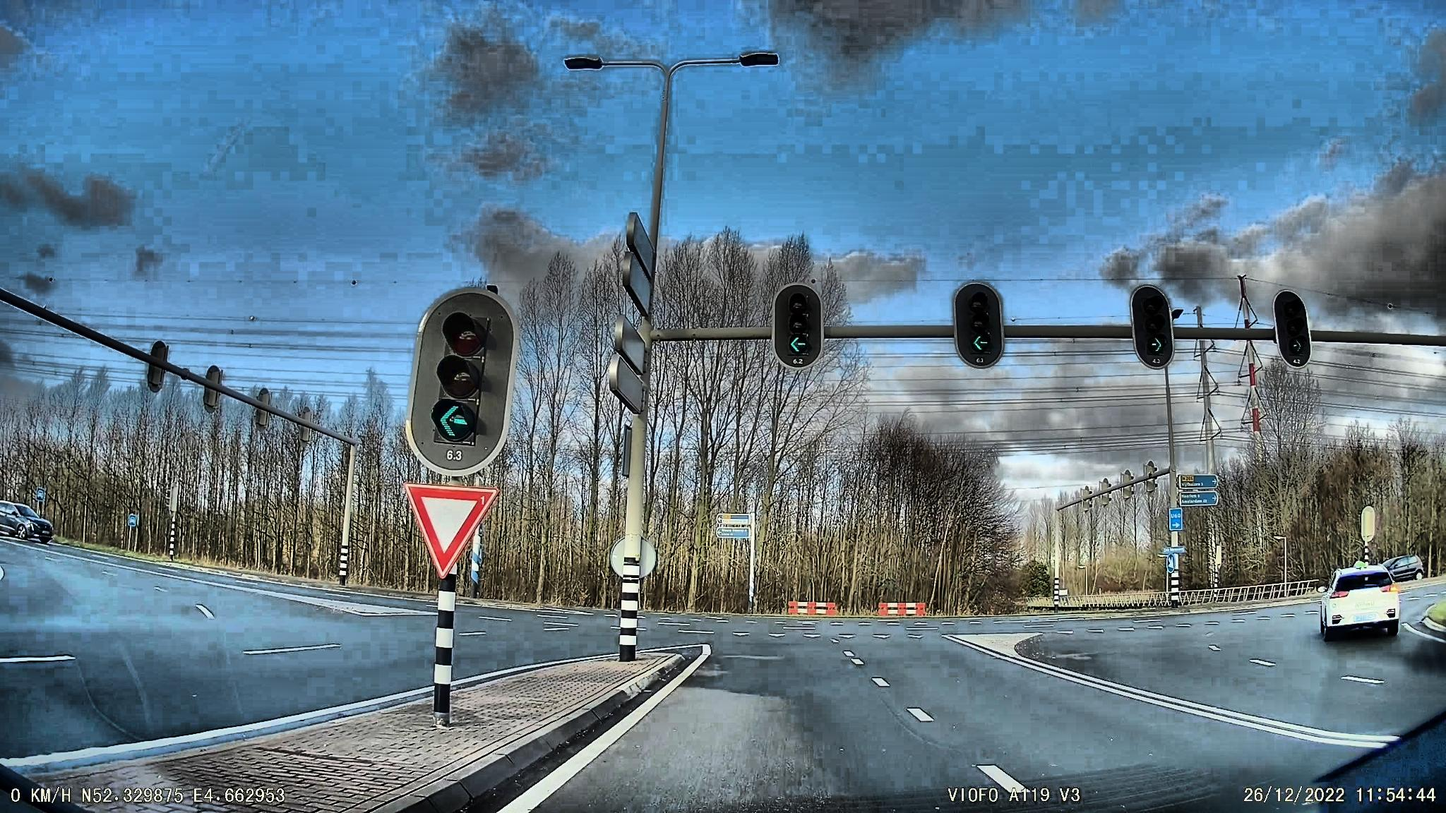Roads: (441, 611, 1446, 813)
